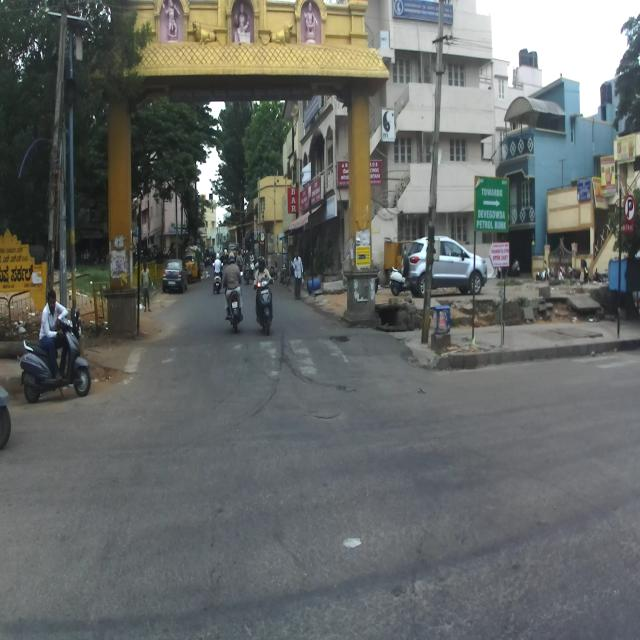electric pole ahead at: (415, 1, 456, 350)
motorcycle ahead at: (20, 315, 94, 399)
